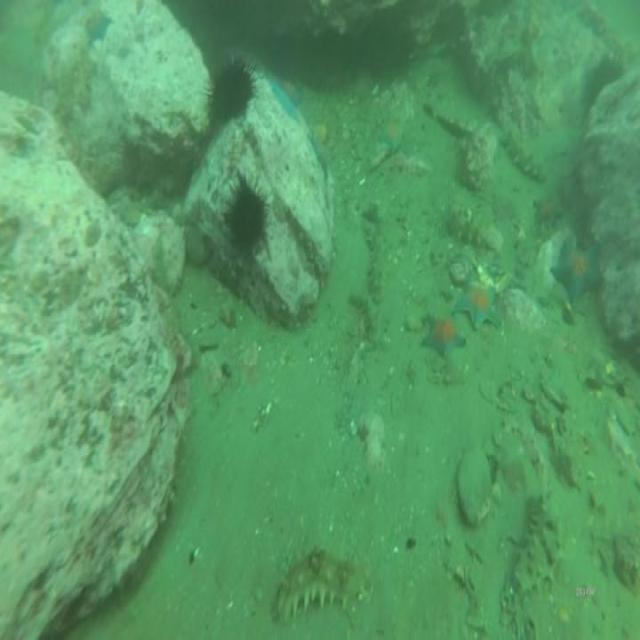echinus: (216, 167, 276, 272), (201, 57, 257, 128)
holothurian: (274, 545, 373, 624), (512, 490, 565, 596), (357, 215, 385, 343), (445, 199, 505, 256), (499, 123, 548, 190)
starfish: (552, 229, 604, 311), (456, 276, 506, 336), (419, 305, 466, 365), (529, 190, 566, 237), (376, 114, 407, 156), (83, 8, 113, 50), (278, 73, 304, 109)
